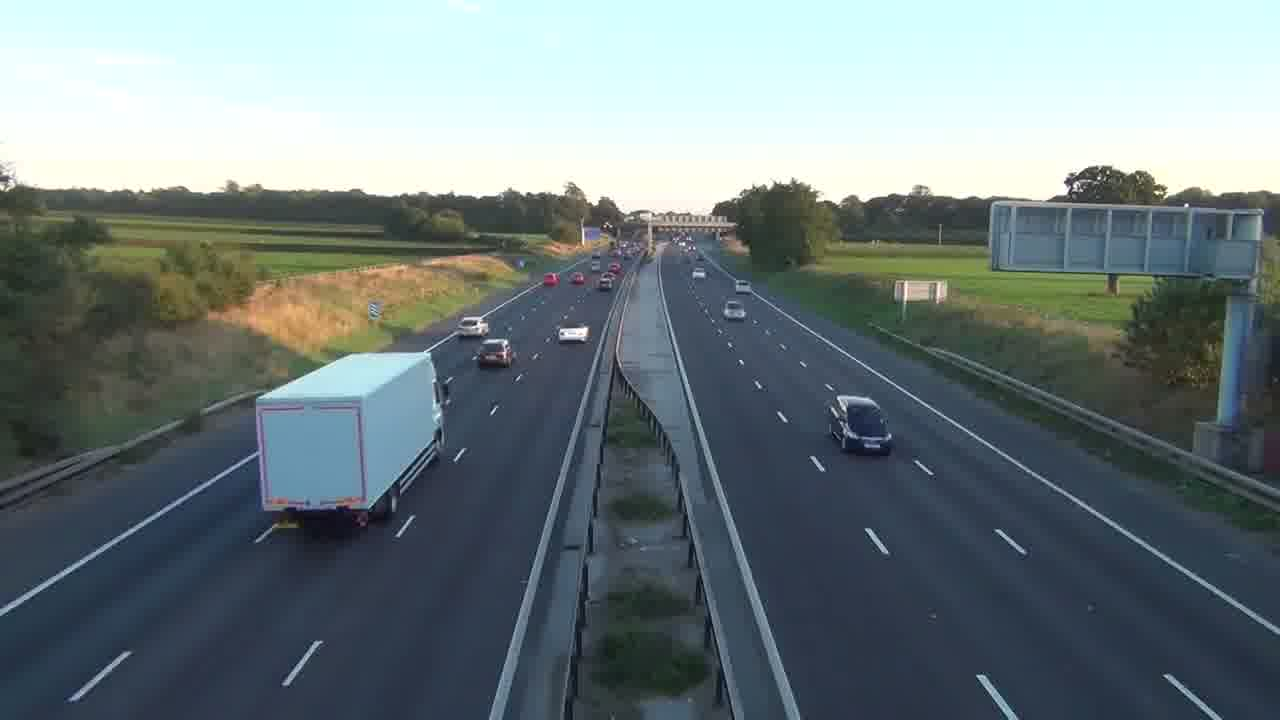car: (476, 338, 514, 368), (556, 324, 590, 343)
truck: (255, 348, 444, 532), (826, 394, 894, 455)
